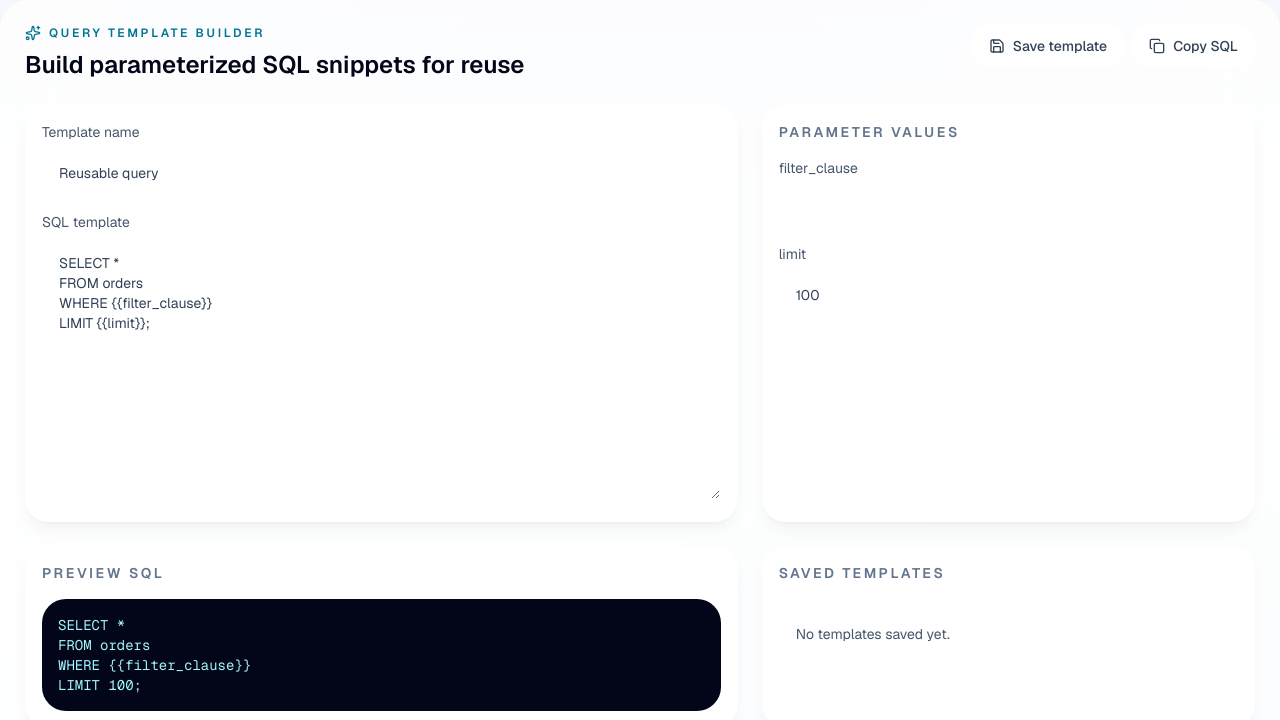
it: QueryTemplateBuilder › copies the rendered SQL to the clipboard
Click the button "Copy SQL".
click(1194, 46)  # box [1132, 25, 1255, 67]
(page scrolled)
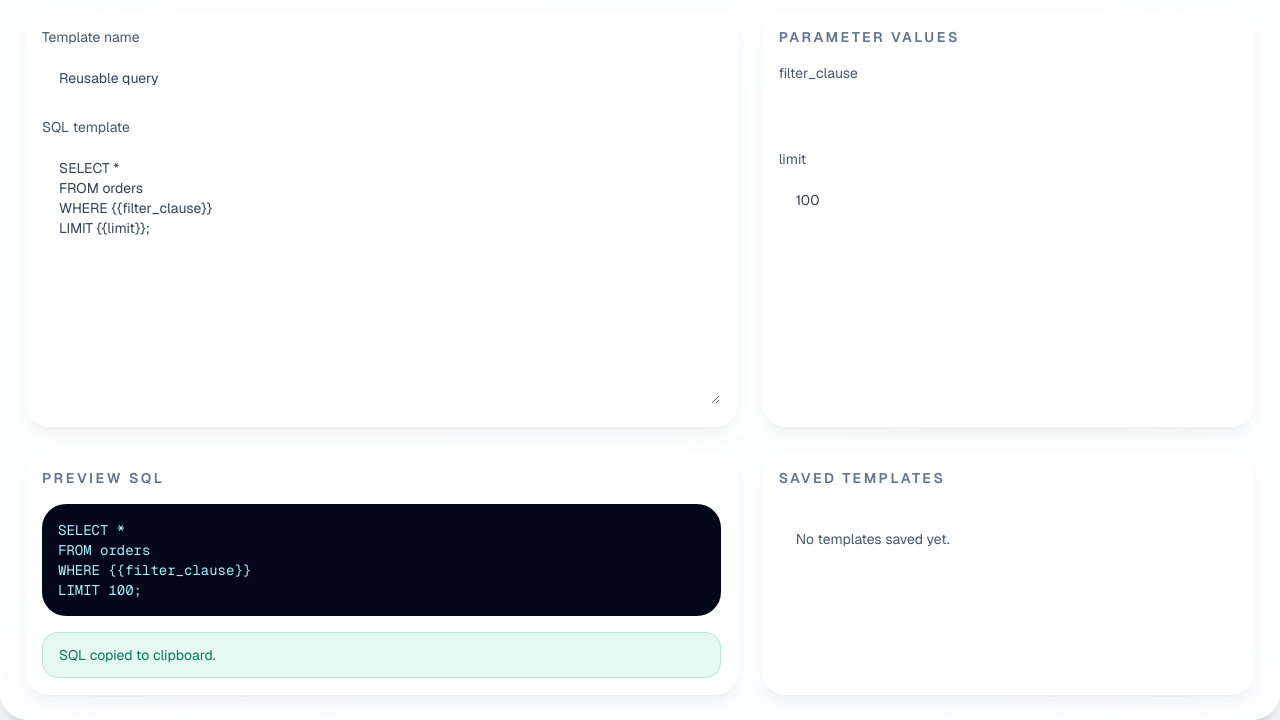
expect the text "SQL copied to clipboard." is shown: met, box [42, 632, 721, 678]
